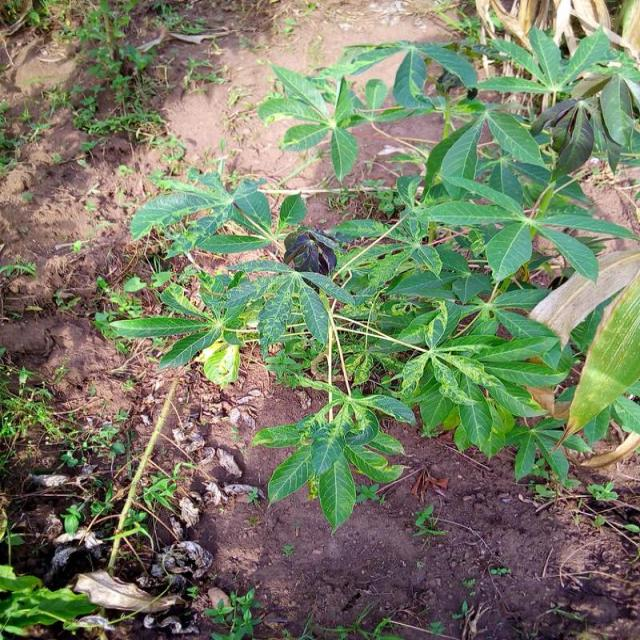cassava leaf: (99, 19, 639, 532)
